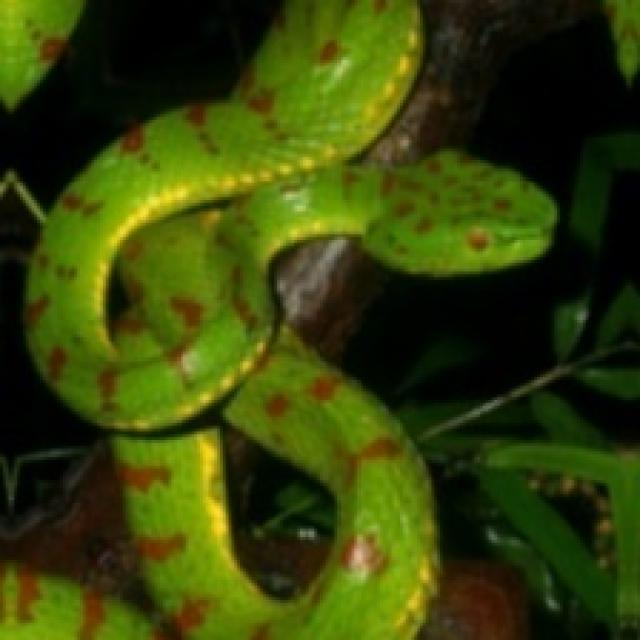philippine pitviper: (0, 0, 554, 637)
